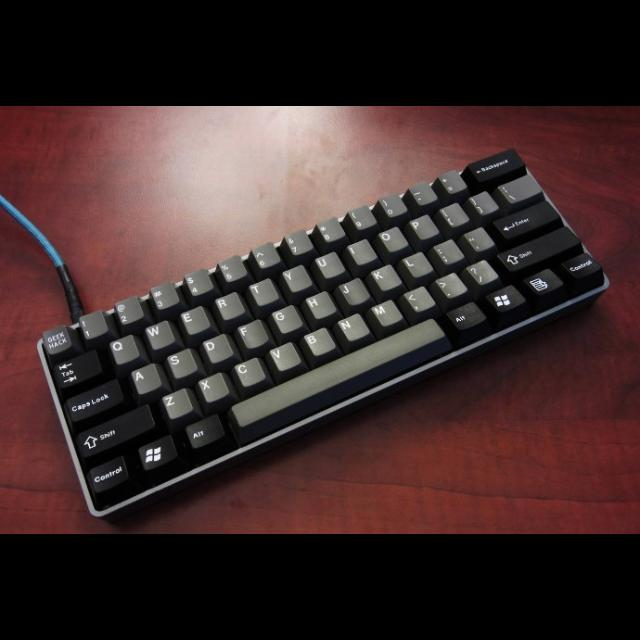Computer-Keyboard: (36, 150, 610, 526)
